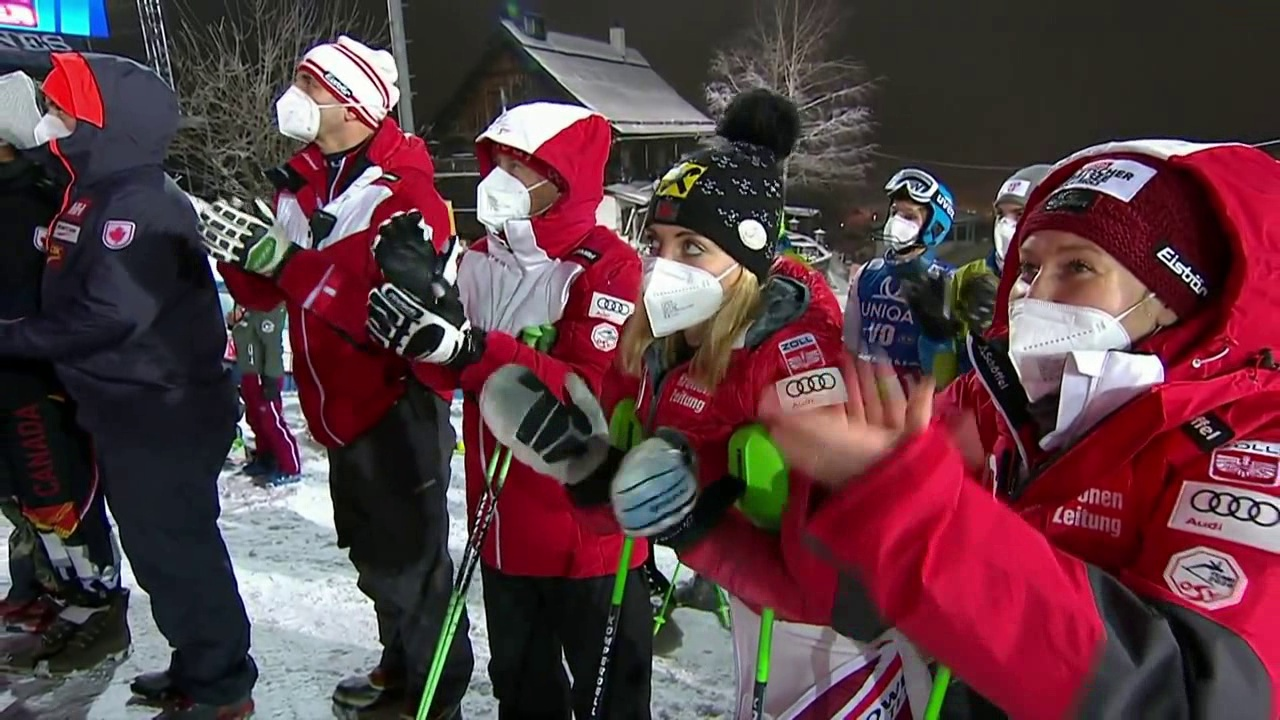audi: (1173, 485, 1279, 542), (776, 369, 848, 406)
spar: (1, 1, 42, 30)
